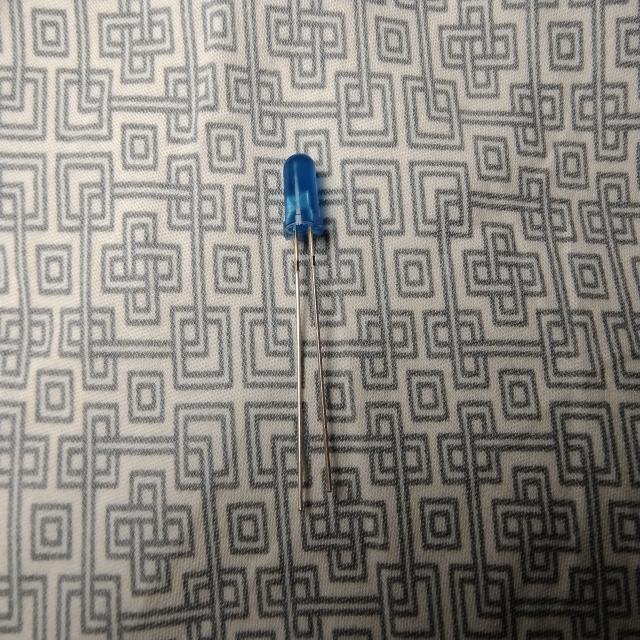blue_led: (282, 152, 324, 241)
